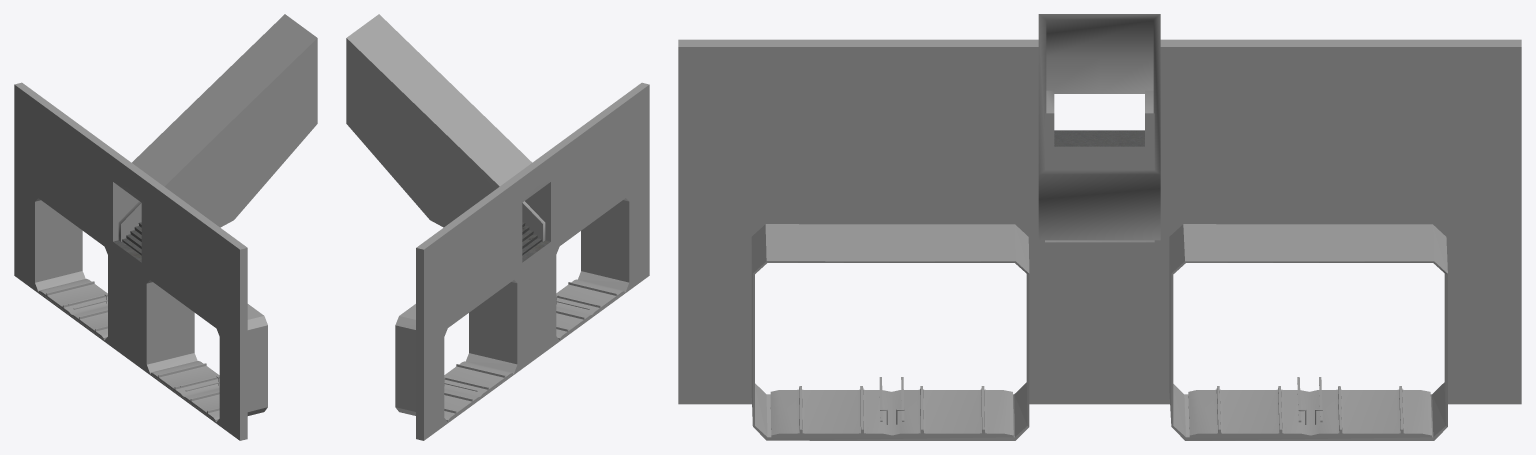
File: Hall_Entrance.fbx
3 views of the same model, side by side, from view 1: azimuth 30°, elevation 25°; view 2: azimuth 150°, elevation 25°; view 3: azimuth 270°, elevation 25° (orthographic). The views are drawn at different scales.
Visible parts, largest first — view 1: Hall_Entrance; view 2: Hall_Entrance; view 3: Hall_Entrance.
Part boxes in pixels (x1,y1,x2,y2): Hall_Entrance: (14, 14, 317, 440); Hall_Entrance: (346, 14, 649, 440); Hall_Entrance: (678, 14, 1521, 440).
Size of the model in its own units: 900 by 1431 by 2018.
